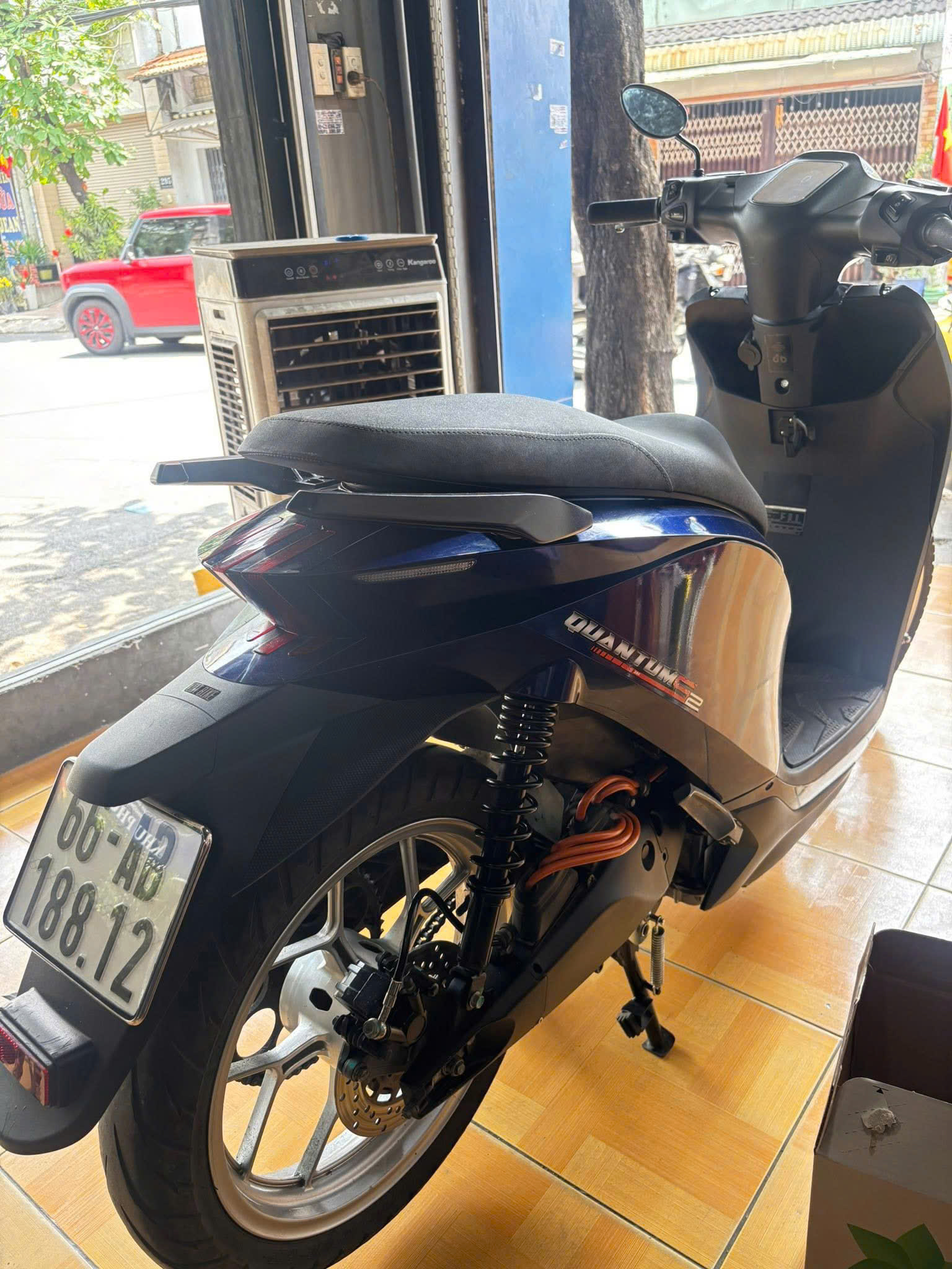Bien-so: (2, 756, 208, 1024)
